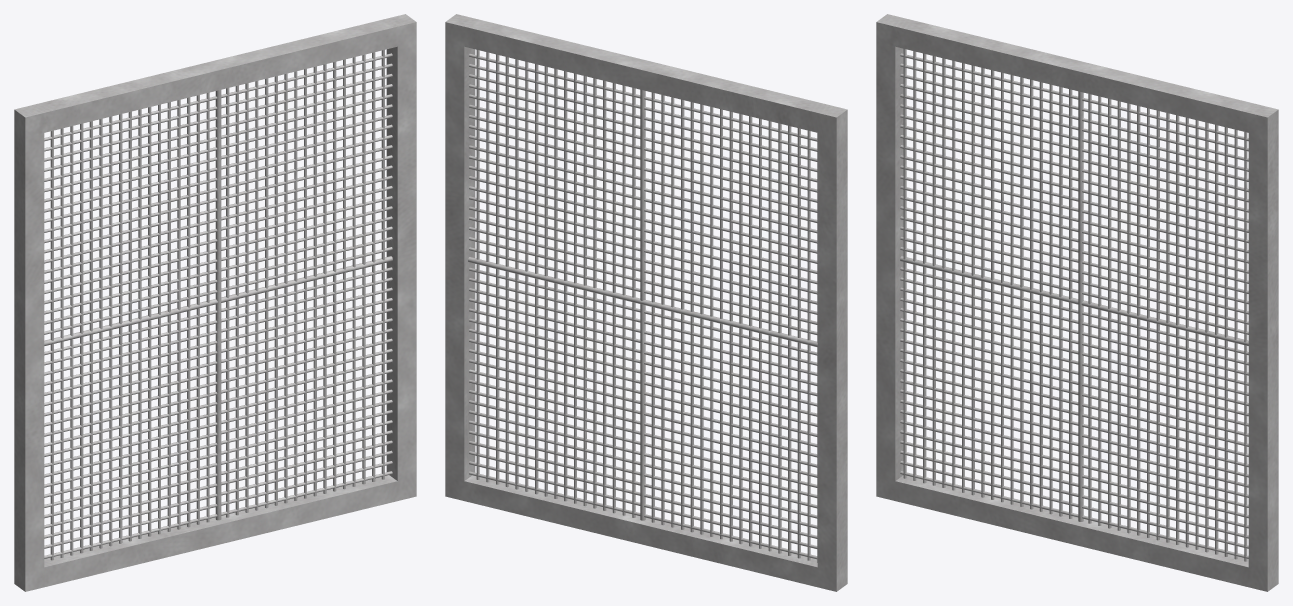
File: LC_3048_VentA_LOD3.FBX
The picture shows the model from 3 angles, left to right: view 1: azimuth 30°, elevation 25°; view 2: azimuth 150°, elevation 25°; view 3: azimuth 330°, elevation 25°; orthographic projection.
Visible parts, largest first — view 1: LC_3048_VentA_LOD3; view 2: LC_3048_VentA_LOD3; view 3: LC_3048_VentA_LOD3.
Boxes of the visible parts, x1,y1,x2,y2 form: LC_3048_VentA_LOD3: [14, 14, 416, 591]; LC_3048_VentA_LOD3: [445, 14, 847, 591]; LC_3048_VentA_LOD3: [876, 14, 1278, 591].
Bounding box in the file's own units: 82 × 95 × 4.
Materials: 1 (1 with a texture image).
